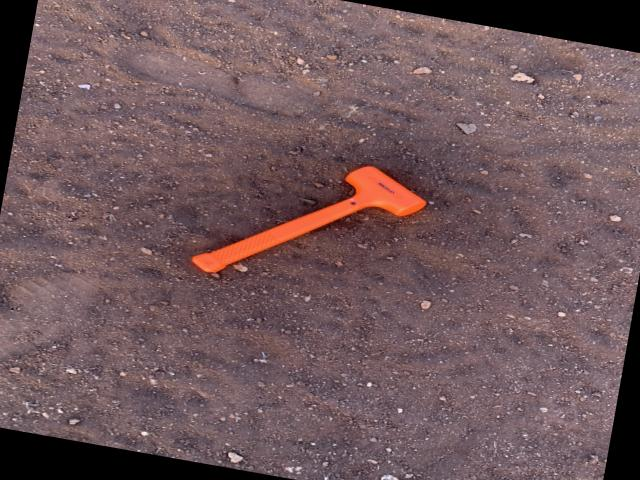hammer: (189, 137, 433, 307)
